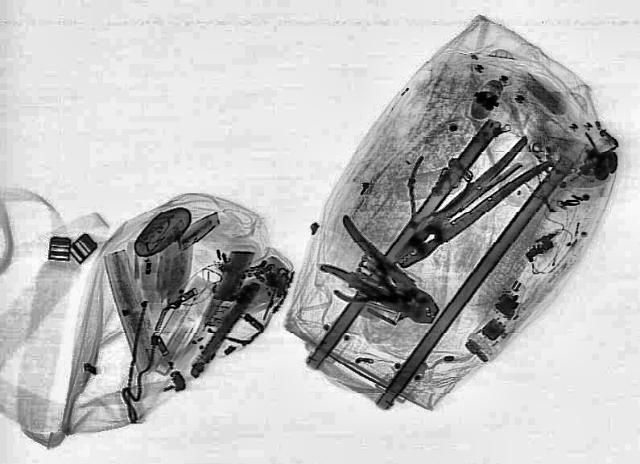Pliers: (376, 133, 564, 273), (290, 214, 464, 334), (320, 253, 442, 331)
